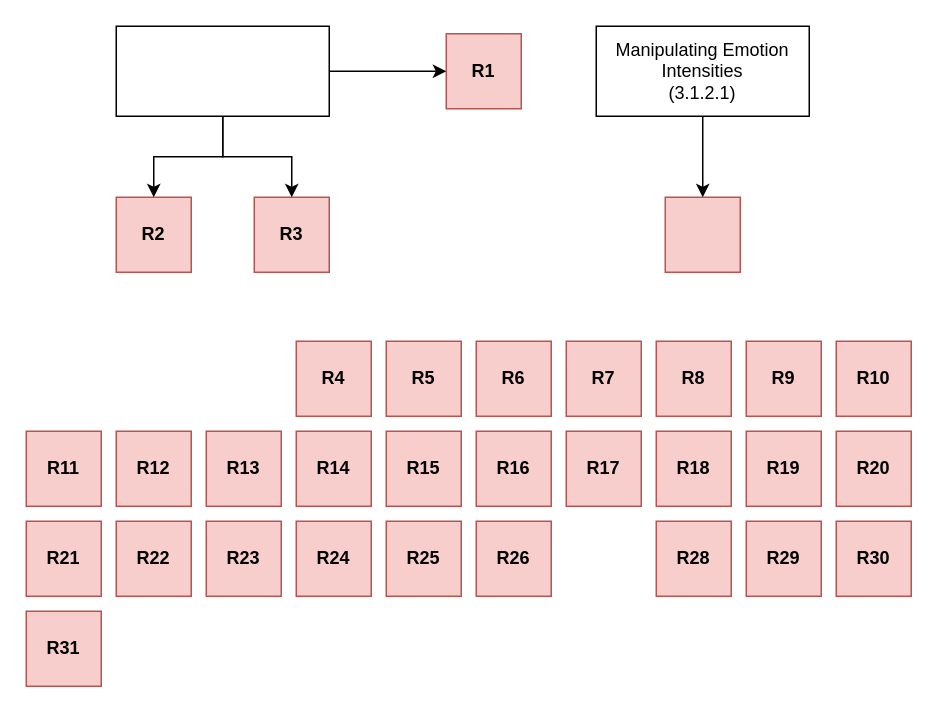
This 938x713 diagram has some shape labels left out. The shapes that lost their labels are listed below. From the top down, each one's centre as x and y in pixels, then its label:
(x=222, y=70): Emotion Intensity and Intensity Change (3.1.1.1)
(x=702, y=234): R27
